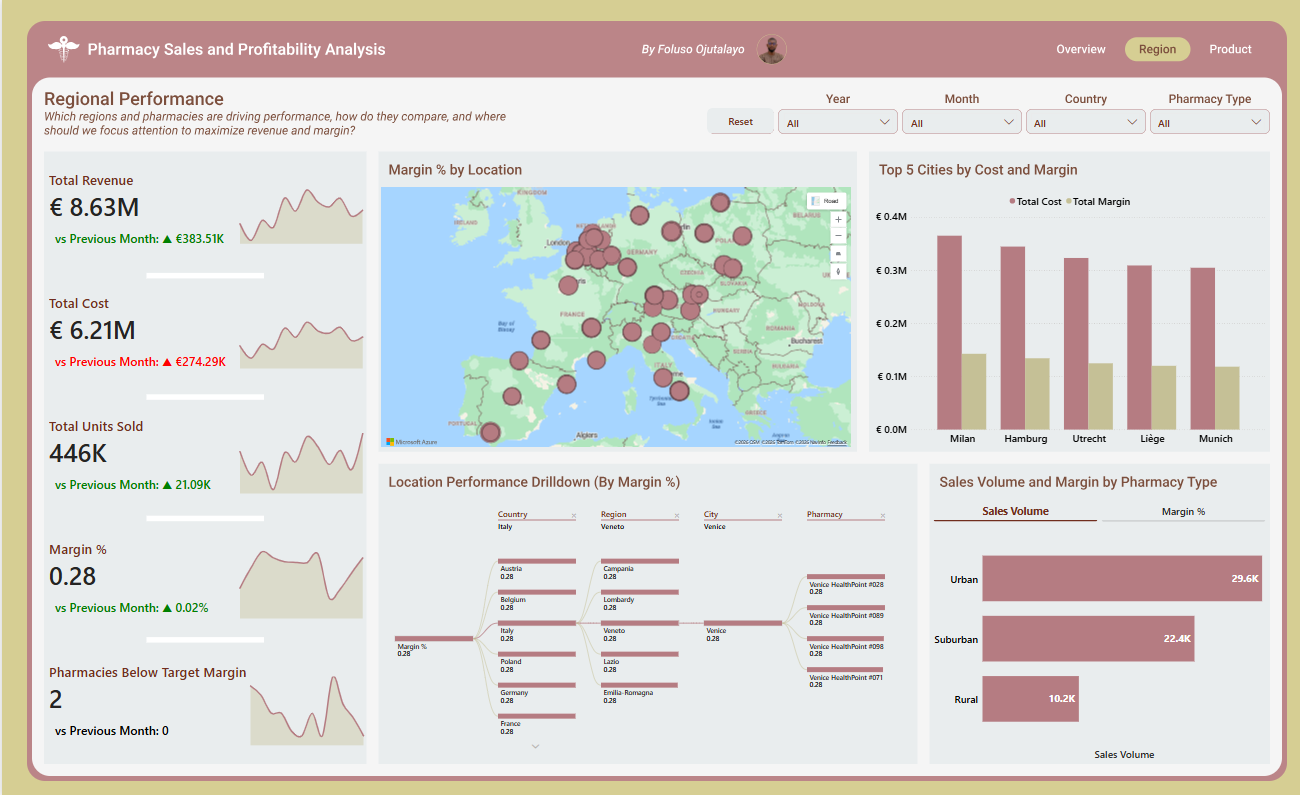

This screenshot's page, from the dashboard's own definition file:
{"tool":"powerbi","page":{"name":"Region","canvas":[2600,1600],"ordinal":1},"visuals":[{"type":"slicer","fields":{"Values":["DimPharmacy.Country"]},"box":[2048.6,220.3,238.3,50.8],"z":0},{"type":"slicer","fields":{"Values":["DimPharmacy.PharmacyType"]},"box":[2296.4,220.3,238.6,50.7],"z":1000},{"type":"slicer","fields":{"Values":["DimDate.Month"]},"box":[1801.4,220.1,237.8,51.1],"z":2000},{"type":"slicer","fields":{"Values":["DimDate.Year"]},"box":[1554.3,220.4,237.6,50.6],"z":3000},{"type":"actionButton","title":"Reset","box":[1410.8,220.1,134,51.2],"z":4000},{"type":"cardVisual","fields":{"Data":["_Measures.Total Revenue"]},"box":[82.8,336.9,409.9,179.3],"z":5000},{"type":"cardVisual","fields":{"Data":["_Measures.Total Cost"]},"box":[82,582.2,410,180],"z":6000},{"type":"cardVisual","fields":{"Data":["_Measures.Total Units Sold"]},"box":[82,828.1,410,180],"z":7000},{"type":"cardVisual","fields":{"Data":["_Measures.Margin %"]},"box":[82,1074.1,410,180],"z":8000},{"type":"cardVisual","fields":{"Data":["_Measures.Pharmacies Below Target Margin"]},"box":[82,1320,410,180],"z":9000},{"type":"areaChart","fields":{"Category":["DimDate.Month"],"Y":["_Measures.Total Revenue"]},"box":[462.4,341.1,272.7,154.5],"z":10000},{"type":"areaChart","fields":{"Category":["DimDate.Month"],"Y":["_Measures.Total Cost"]},"box":[462.2,591.8,273.3,154.4],"z":11000},{"type":"areaChart","fields":{"Category":["DimDate.Month"],"Y":["_Measures.Total Units Sold"]},"box":[462.2,842.4,273.3,154.4],"z":12000},{"type":"areaChart","fields":{"Category":["DimDate.Month"],"Y":["_Measures.Margin %"]},"box":[461,1092.9,273.3,154.4],"z":13000},{"type":"areaChart","fields":{"Category":["DimDate.Month"],"Y":["_Measures.Pharmacies Below Target Margin"]},"box":[483.3,1343.5,252.2,155.7],"z":14000},{"type":"azureMap","fields":{"Series":["DimPharmacy.Latitude"]},"box":[756.7,381.1,948.9,523.3],"z":15000},{"type":"clusteredColumnChart","fields":{"Y":["_Measures.Total Cost","_Measures.Total Margin"],"Category":["DimPharmacy.City"]},"box":[1741.9,382.3,792.1,522.2],"z":16000},{"type":"decompositionTreeVisual","fields":{"Analyze":["_Measures.Margin %"],"ExplainBy":["DimPharmacy.Country","DimPharmacy.Region","DimPharmacy.City","DimPharmacy.PharmacyName"]},"box":[755,1007.1,1073.6,523.6],"z":17000},{"type":"advancedSlicerVisual","fields":{"Values":["Sales Volume Margin %.Sales Volume Margin %"]},"box":[1858.7,996,674,56],"z":18000},{"type":"clusteredBarChart","fields":{"Y":["_Measures.Sales Volume"],"Category":["DimPharmacy.PharmacyType"]},"box":[1857.9,1054.3,675.7,475.7],"z":19000},{"type":"actionButton","box":[2098.8,82.5,123.8,43.8],"z":19001},{"type":"actionButton","box":[2248.8,82.5,123.8,43.8],"z":19002},{"type":"actionButton","box":[2397.5,82.5,123.8,43.8],"z":19003}]}

Visuals, with their boxes in screenshot pixels (x1, y1, x2, y2), scaled from the page's 2600x1600 canvas onto the 1300x795 screenshot:
slicer - DimPharmacy.Country: (1024,109,1143,135)
slicer - DimPharmacy.PharmacyType: (1148,109,1268,135)
slicer - DimDate.Month: (901,109,1020,135)
slicer - DimDate.Year: (777,110,896,135)
"Reset" actionButton: (705,109,772,135)
cardVisual - _Measures.Total Revenue: (41,167,246,256)
cardVisual - _Measures.Total Cost: (41,289,246,379)
cardVisual - _Measures.Total Units Sold: (41,411,246,501)
cardVisual - _Measures.Margin %: (41,534,246,623)
cardVisual - _Measures.Pharmacies Below Target Margin: (41,656,246,745)
areaChart - DimDate.Month x _Measures.Total Revenue: (231,169,368,246)
areaChart - DimDate.Month x _Measures.Total Cost: (231,294,368,371)
areaChart - DimDate.Month x _Measures.Total Units Sold: (231,419,368,495)
areaChart - DimDate.Month x _Measures.Margin %: (230,543,367,620)
areaChart - DimDate.Month x _Measures.Pharmacies Below Target Margin: (242,668,368,745)
azureMap - DimPharmacy.Latitude: (378,189,853,449)
clusteredColumnChart - _Measures.Total Cost x _Measures.Total Margin: (871,190,1267,449)
decompositionTreeVisual - _Measures.Margin % x DimPharmacy.Country: (378,500,914,761)
advancedSlicerVisual - Sales Volume Margin %.Sales Volume Margin %: (929,495,1266,523)
clusteredBarChart - _Measures.Sales Volume x DimPharmacy.PharmacyType: (929,524,1267,760)
actionButton: (1049,41,1111,63)
actionButton: (1124,41,1186,63)
actionButton: (1199,41,1261,63)
